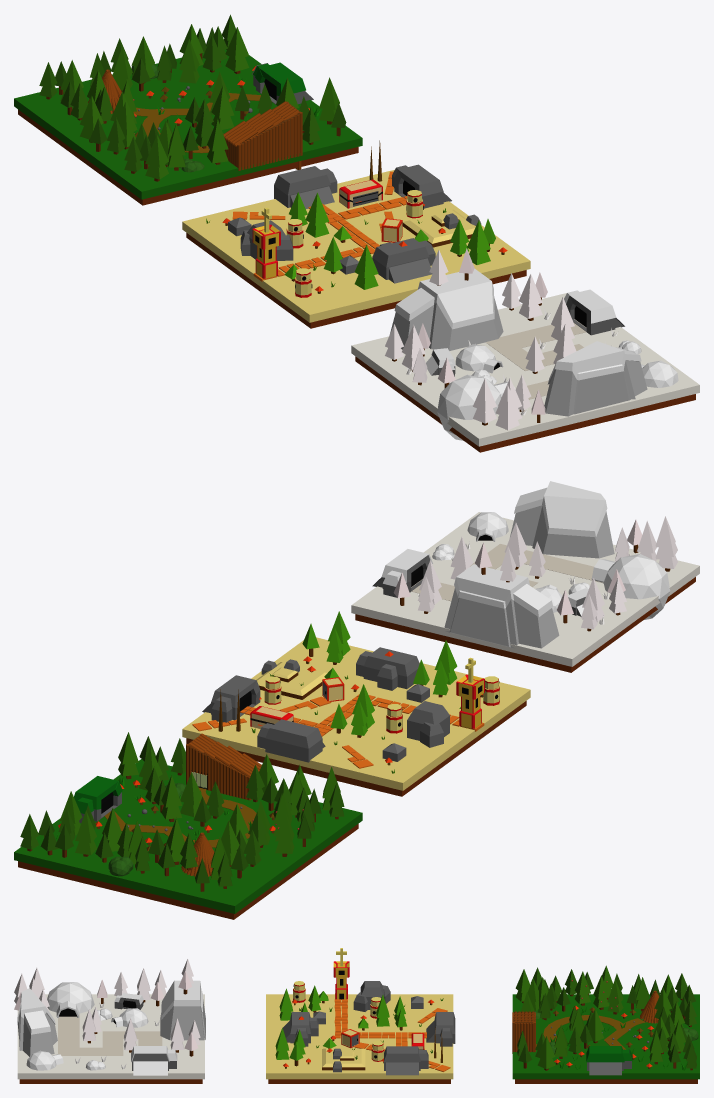
The model's file is Maps.fbx.
The picture shows the model from 3 angles, top to bottom: view 1: azimuth 30°, elevation 25°; view 2: azimuth 150°, elevation 25°; view 3: azimuth 270°, elevation 25°; orthographic projection. The views are drawn at different scales.
Parts seen in each view (by area): view 1: Cube, Cube.149, Cube.123, Cube.124, Cube.125, Cylinder.005, Icosphere, Cube.129, Cube.127, Cube.121, Cube.060, Cube.119 (+16 smaller); view 2: Cube, Cube.149, Cube.123, Cube.124, Cube.125, Icosphere, Cube.060, Cylinder.004, Cube.129, Cube.010, Cube.069, Cube.119 (+7 smaller); view 3: Cube, Cube.149, Cube.123, Cube.124, Cube.129, Cube.125, Icosphere, Cube.183, Cube.010, Cube.181, Cube.121, Cube.119 (+36 smaller).
Boxes of the visible parts, x1,y1,x2,y2 form: Cube: (182, 169, 530, 328); Cube.149: (14, 49, 362, 205); Cube.123: (351, 293, 699, 452); Cube.124: (390, 268, 503, 350); Cube.125: (544, 341, 647, 416); Cylinder.005: (237, 112, 302, 170); Icosphere: (437, 374, 515, 440); Cube.129: (485, 319, 586, 399); Cube.127: (565, 289, 616, 335); Cube.121: (394, 164, 443, 208); Cube.060: (274, 166, 331, 207); Cube.119: (252, 207, 280, 278); Cube: (182, 637, 530, 796); Cube.149: (14, 759, 362, 919); Cube.123: (351, 512, 699, 672); Cube.124: (444, 564, 559, 648); Cube.125: (510, 481, 614, 558); Icosphere: (591, 554, 670, 620); Cube.060: (265, 719, 322, 762); Cylinder.004: (186, 744, 251, 800); Cube.129: (411, 544, 603, 601); Cube.010: (256, 662, 327, 699); Cube.069: (363, 647, 419, 689); Cube.119: (456, 657, 484, 729); Cube: (266, 994, 453, 1083); Cube.149: (512, 994, 699, 1083); Cube.123: (17, 994, 204, 1083); Cube.124: (160, 980, 205, 1040); Cube.129: (58, 1014, 162, 1055); Cube.125: (17, 988, 57, 1056); Icosphere: (47, 982, 94, 1017); Cube.183: (536, 1015, 645, 1049); Cube.010: (322, 1048, 365, 1070); Cube.181: (586, 1046, 624, 1070); Cube.121: (384, 1046, 420, 1070); Cube.119: (333, 948, 349, 999).
Size of the model in its own units: 3025 by 1535 by 10810.
